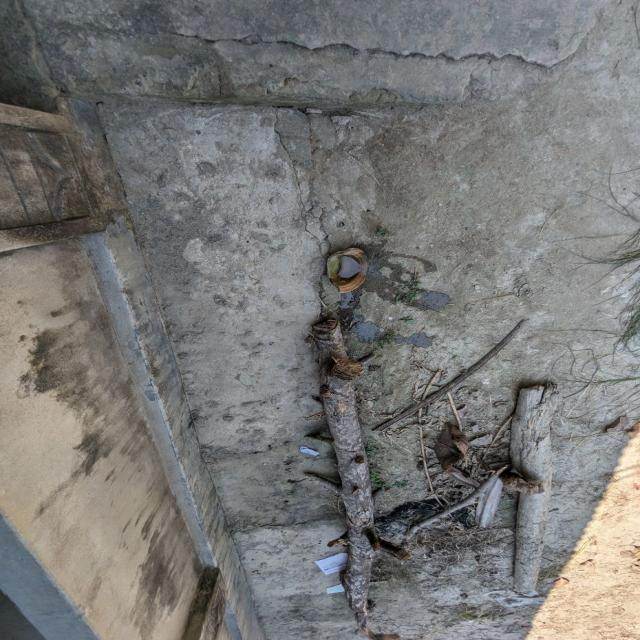Breeding Place: (294, 208, 444, 362), (372, 422, 518, 562), (306, 233, 389, 310)
